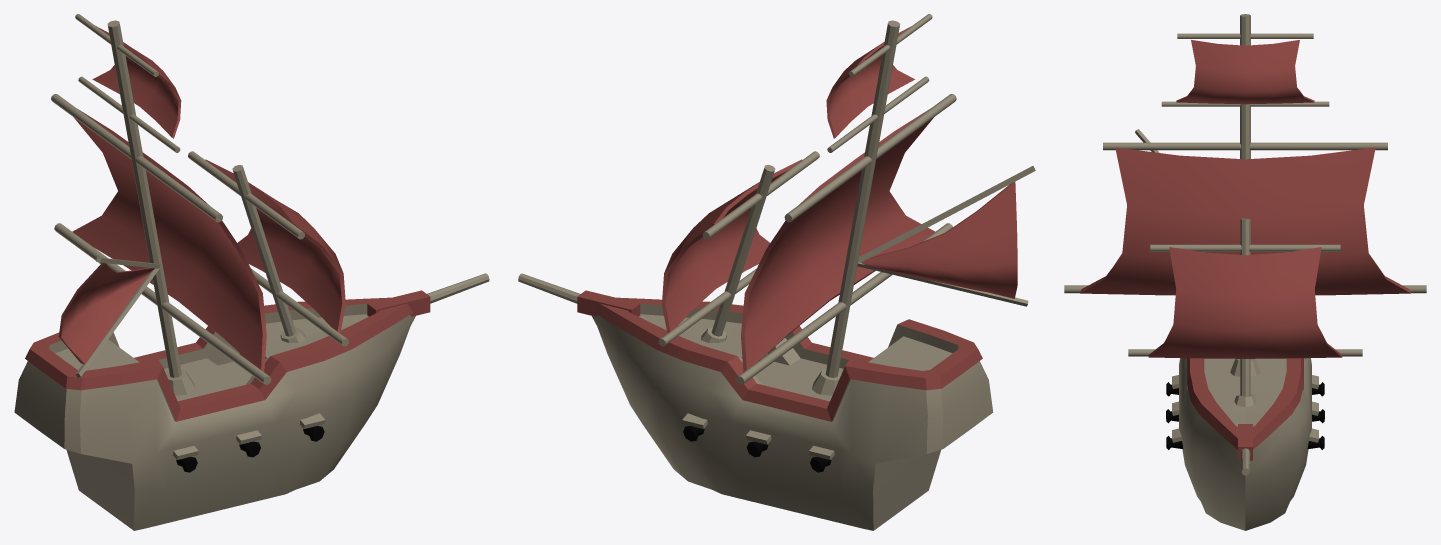
The model's file is mdl_ship02.fbx.
3 views of the same model, side by side, from view 1: azimuth 30°, elevation 25°; view 2: azimuth 150°, elevation 25°; view 3: azimuth 270°, elevation 25° (orthographic). The views are drawn at different scales.
Visible parts, largest first — view 1: ship03; view 2: ship03; view 3: ship03.
Part boxes in pixels (x1,y1,x2,y2): ship03: [14, 14, 489, 530]; ship03: [518, 14, 1035, 530]; ship03: [1064, 14, 1426, 530].
Bounding box in the file's own units: 473 × 475 × 370.
